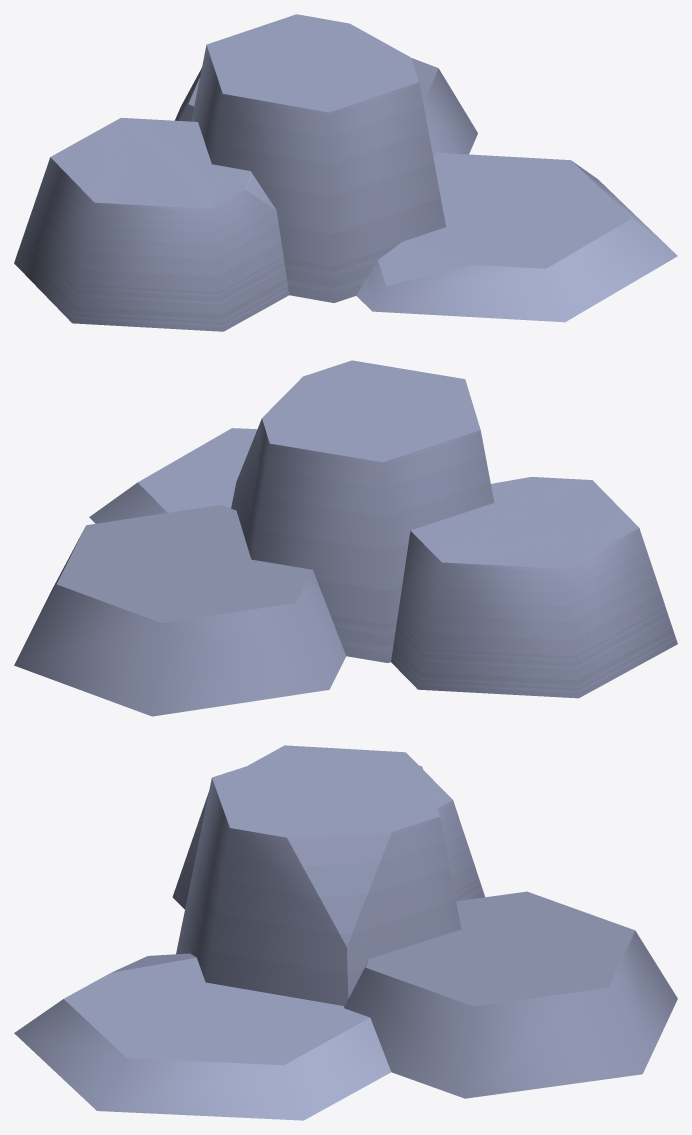
File: td-rocks.glb
The picture shows the model from 3 angles, top to bottom: view 1: azimuth 30°, elevation 25°; view 2: azimuth 150°, elevation 25°; view 3: azimuth 270°, elevation 25°; orthographic projection. The views are drawn at different scales.
Visible parts, largest first — view 1: detail-rocks; view 2: detail-rocks; view 3: detail-rocks.
Boxes of the visible parts, x1,y1,x2,y2 form: detail-rocks: (14,14,677,331); detail-rocks: (14,360,677,716); detail-rocks: (14,745,677,1120).
Bounding box in the file's own units: 0.5975 × 0.1845 × 0.6055.
1 material, 1 textured.
